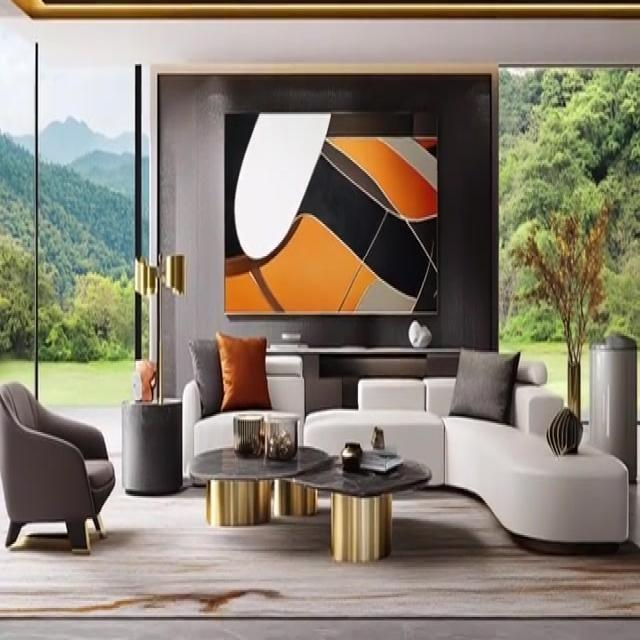obstacle: (303, 359, 629, 553), (192, 438, 432, 564), (0, 380, 115, 554), (181, 352, 304, 482)
